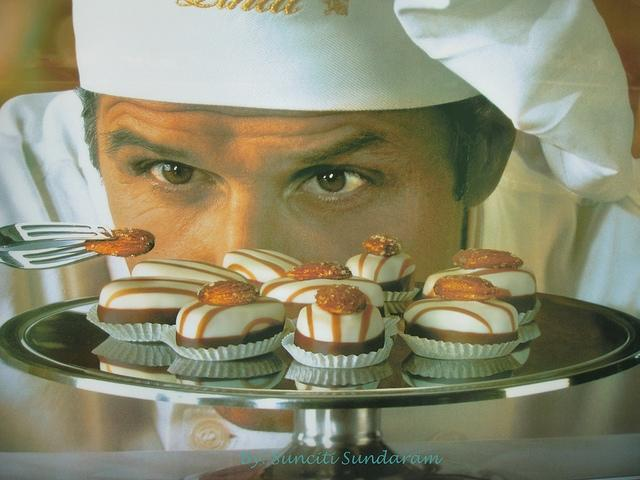almond: (84, 226, 156, 258), (433, 274, 499, 301), (199, 280, 260, 306), (452, 248, 524, 270), (315, 284, 366, 315), (286, 262, 351, 282), (362, 233, 400, 256)
